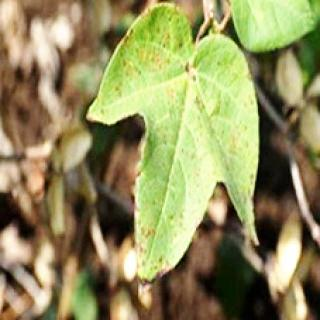leaf spot: (98, 3, 264, 283)
